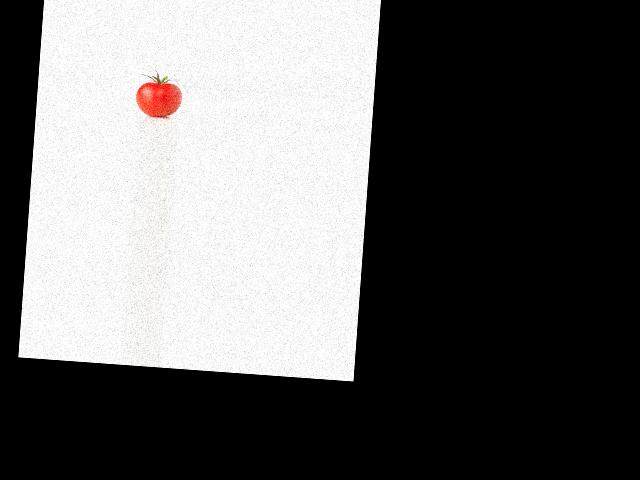tomato: (134, 80, 182, 117)
